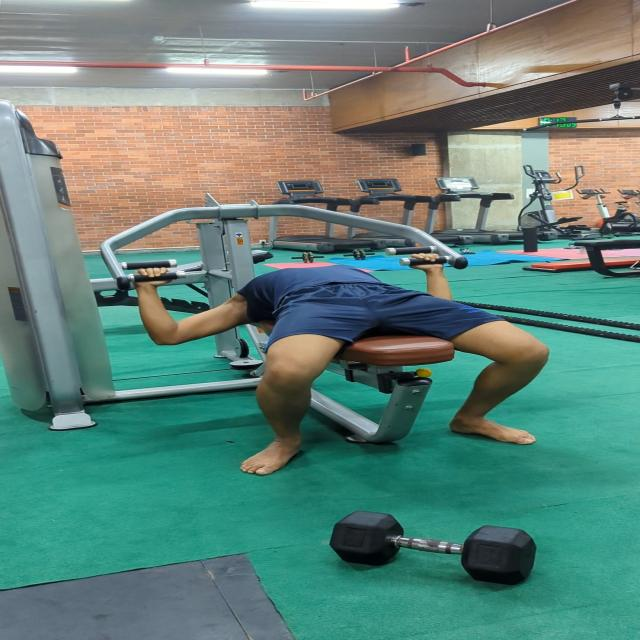Normal_BrenchPress: (130, 239, 640, 489)
